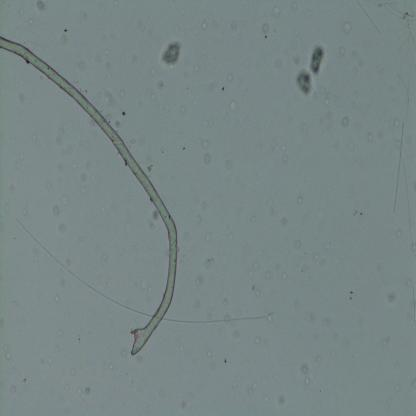Background material: (158, 43, 180, 71), (309, 44, 324, 74), (296, 70, 313, 94), (146, 209, 159, 231), (220, 154, 234, 171), (320, 86, 332, 104), (197, 136, 211, 151), (104, 88, 115, 107), (399, 10, 414, 23), (246, 380, 258, 396), (261, 20, 271, 38), (268, 140, 278, 158), (275, 393, 288, 405), (15, 91, 27, 104), (195, 272, 208, 284), (385, 289, 396, 303), (228, 98, 239, 112), (55, 128, 64, 145), (81, 175, 91, 190), (128, 134, 138, 149), (49, 205, 61, 217), (25, 201, 35, 215), (271, 3, 281, 17), (380, 336, 391, 348), (298, 362, 308, 375), (35, 0, 46, 11), (202, 152, 212, 164), (302, 376, 312, 388), (60, 194, 70, 206), (201, 118, 213, 128), (341, 116, 351, 127), (251, 285, 261, 296), (146, 163, 156, 174), (19, 375, 28, 387), (156, 78, 165, 90), (179, 398, 188, 410), (57, 222, 66, 234), (16, 151, 26, 161), (146, 88, 155, 99), (295, 194, 303, 206), (225, 72, 234, 82), (206, 256, 214, 267), (78, 60, 86, 71), (64, 256, 72, 267), (280, 216, 288, 227), (294, 53, 301, 65), (179, 102, 186, 114), (4, 350, 13, 359), (393, 382, 401, 392), (338, 46, 346, 56), (56, 277, 66, 285), (113, 118, 121, 128), (392, 117, 400, 127), (100, 250, 108, 260), (44, 181, 52, 191), (345, 22, 351, 35), (367, 130, 374, 141), (65, 147, 73, 156), (199, 20, 208, 28), (46, 354, 53, 364), (312, 252, 319, 262), (294, 240, 302, 248), (106, 362, 114, 370), (62, 382, 70, 390), (205, 348, 212, 357), (10, 383, 17, 392), (230, 20, 237, 29), (224, 315, 231, 324), (275, 60, 282, 69), (253, 260, 259, 270), (411, 241, 416, 253), (281, 272, 287, 282), (62, 35, 68, 45), (282, 156, 289, 164), (249, 214, 256, 222), (354, 210, 363, 216), (120, 108, 126, 117), (387, 396, 393, 405), (406, 277, 412, 286), (75, 333, 81, 342), (228, 235, 233, 245), (349, 289, 354, 299), (85, 384, 90, 394), (280, 144, 286, 152), (54, 296, 60, 304), (112, 0, 120, 6), (325, 241, 330, 250), (206, 233, 211, 242), (396, 230, 402, 237), (232, 380, 238, 387), (254, 337, 260, 344), (267, 314, 273, 321), (148, 68, 155, 74), (264, 396, 269, 404), (327, 113, 332, 121), (56, 330, 62, 336), (194, 301, 200, 307), (28, 18, 34, 24), (122, 348, 126, 357), (166, 104, 170, 113), (120, 90, 125, 97), (223, 298, 228, 305), (318, 354, 322, 362), (221, 85, 226, 91), (104, 48, 109, 54), (195, 65, 199, 71), (107, 63, 110, 70), (224, 357, 227, 363), (64, 29, 68, 32), (182, 147, 186, 150)
Glass filter fibre: (392, 122, 405, 214), (356, 0, 381, 33)
Microfibre: (0, 25, 180, 354)
